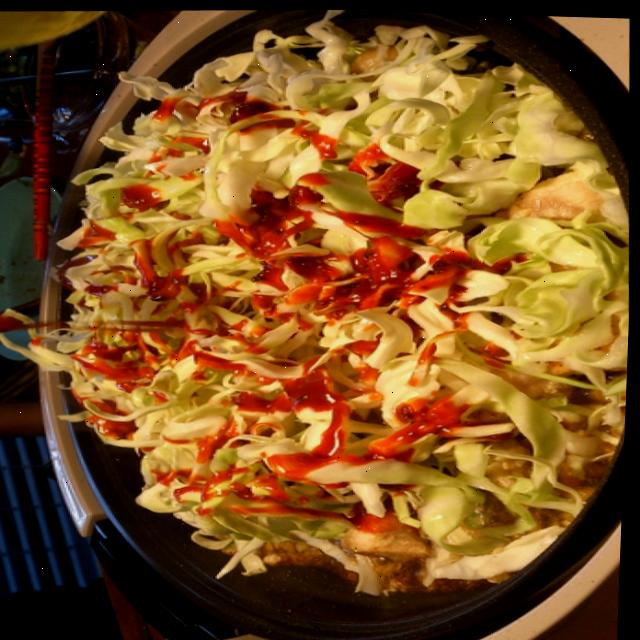鸡肉料理 含炸鸡: (15, 34, 625, 615)
